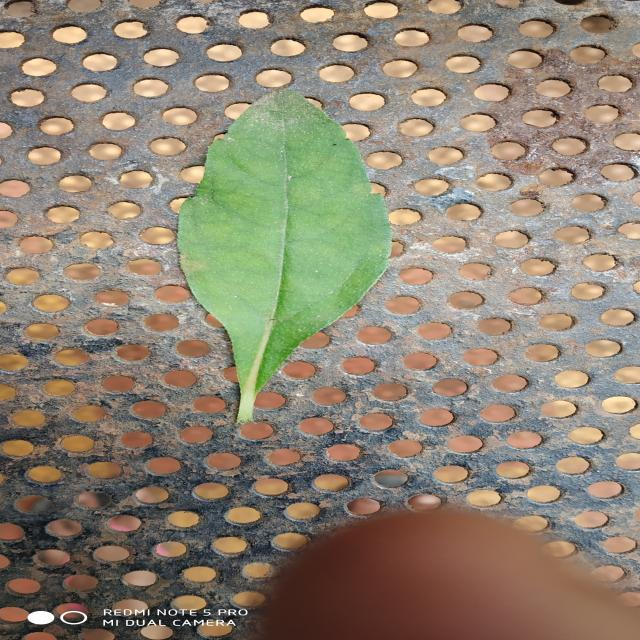bringaraja: (178, 89, 390, 424)
